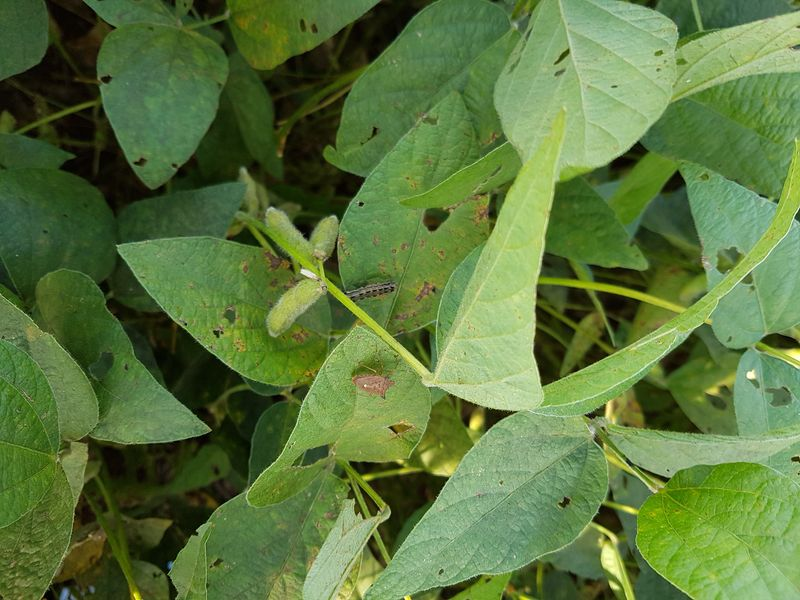Euschistus_heros_adulto: (337, 354, 407, 414)
Spodoptera_albula: (330, 270, 404, 313)
